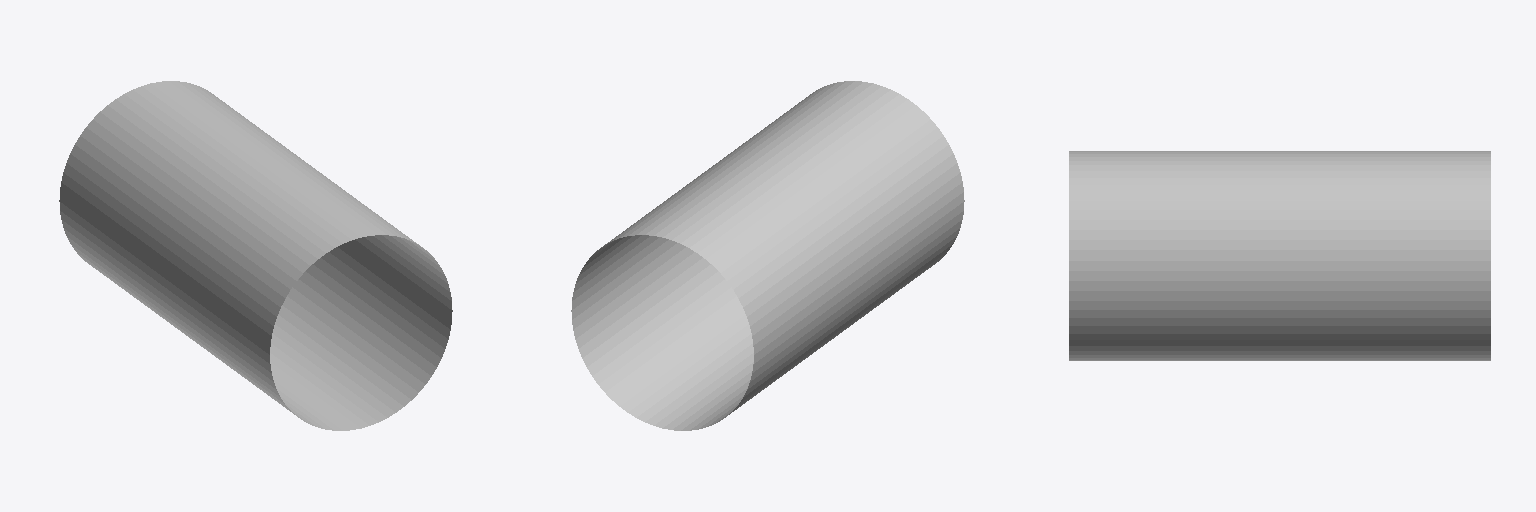
Rendered from cyl.obj.
The picture shows the model from 3 angles: view 1: azimuth 30°, elevation 25°; view 2: azimuth 150°, elevation 25°; view 3: azimuth 270°, elevation 25°; orthographic projection.
Visible parts, largest first — view 1: Cylinder; view 2: Cylinder; view 3: Cylinder.
Part boxes in pixels (x1,y1,x2,y2): Cylinder: (59, 81, 452, 430); Cylinder: (571, 81, 964, 430); Cylinder: (1069, 151, 1490, 360).
Size of the model in its own units: 10 by 10 by 20.